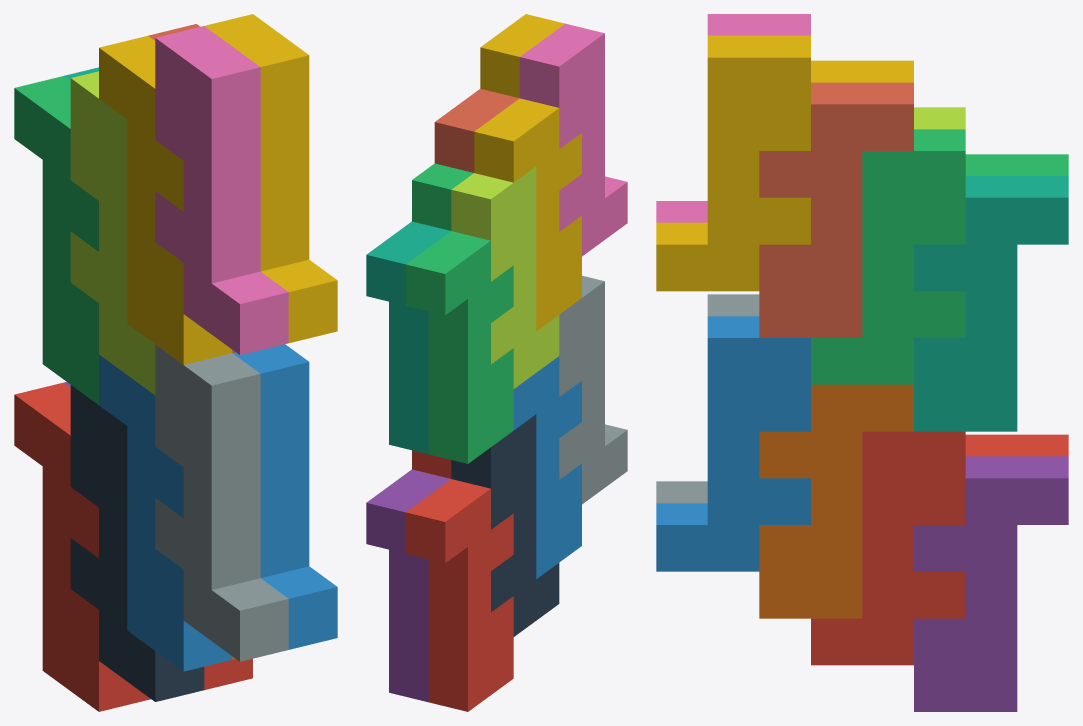
File: tiling.obj
The picture shows the model from 3 angles, left to right: view 1: azimuth 30°, elevation 25°; view 2: azimuth 150°, elevation 25°; view 3: azimuth 270°, elevation 25°; orthographic projection. The views are drawn at different scales.
Parts seen in each view (by area): view 1: copy_2_domain_4, copy_2_domain_2, copy_2_domain_8, copy_1_domain_1, copy_1_domain_4, copy_2_domain_6, copy_2_domain_1, copy_1_domain_3, copy_1_domain_2, copy_2_domain_3, copy_2_domain_5; view 2: copy_1_domain_3, copy_1_domain_1, copy_2_domain_4, copy_1_domain_4, copy_2_domain_3, copy_2_domain_1, copy_1_domain_5, copy_1_domain_7, copy_2_domain_2, copy_1_domain_2, copy_1_domain_8, copy_2_domain_8 (+2 smaller); view 3: copy_2_domain_8, copy_1_domain_7, copy_1_domain_5, copy_2_domain_6, copy_1_domain_8, copy_2_domain_7, copy_1_domain_6, copy_2_domain_5, copy_2_domain_4, copy_2_domain_2, copy_1_domain_1, copy_1_domain_4 (+2 smaller).
Boxes of the visible parts, left/top/right/bottom form: copy_2_domain_4: left=155, top=26, right=288, bottom=354; copy_2_domain_2: left=155, top=344, right=288, bottom=661; copy_2_domain_8: left=205, top=14, right=337, bottom=342; copy_1_domain_1: left=14, top=383, right=147, bottom=711; copy_1_domain_4: left=99, top=35, right=232, bottom=364; copy_2_domain_6: left=232, top=344, right=337, bottom=649; copy_2_domain_1: left=70, top=385, right=204, bottom=701; copy_1_domain_3: left=14, top=76, right=98, bottom=404; copy_1_domain_2: left=99, top=354, right=232, bottom=671; copy_2_domain_3: left=70, top=71, right=155, bottom=394; copy_2_domain_5: left=204, top=658, right=252, bottom=689; copy_1_domain_3: left=405, top=231, right=513, bottom=463; copy_1_domain_1: left=405, top=479, right=513, bottom=711; copy_2_domain_4: left=519, top=23, right=627, bottom=256; copy_1_domain_4: left=474, top=98, right=581, bottom=330; copy_2_domain_3: left=451, top=166, right=559, bottom=388; copy_2_domain_1: left=451, top=414, right=559, bottom=636; copy_1_domain_5: left=366, top=469, right=450, bottom=702; copy_1_domain_7: left=366, top=221, right=450, bottom=454; copy_2_domain_2: left=559, top=275, right=627, bottom=504; copy_1_domain_2: left=513, top=356, right=581, bottom=578; copy_1_domain_8: left=434, top=88, right=519, bottom=172; copy_2_domain_8: left=480, top=14, right=564, bottom=98; copy_2_domain_8: left=656, top=35, right=810, bottom=291; copy_1_domain_7: left=914, top=176, right=1068, bottom=431; copy_1_domain_5: left=914, top=456, right=1068, bottom=711; copy_2_domain_6: left=656, top=316, right=810, bottom=571; copy_1_domain_8: left=759, top=82, right=913, bottom=337; copy_2_domain_7: left=811, top=129, right=965, bottom=384; copy_1_domain_6: left=759, top=384, right=913, bottom=618; copy_2_domain_5: left=811, top=431, right=965, bottom=665; copy_2_domain_4: left=656, top=14, right=810, bottom=222; copy_2_domain_2: left=656, top=294, right=759, bottom=503; copy_1_domain_1: left=965, top=434, right=1068, bottom=456; copy_1_domain_4: left=811, top=60, right=913, bottom=82.
Bounding box in the file's own units: 2 × 14 × 8.
